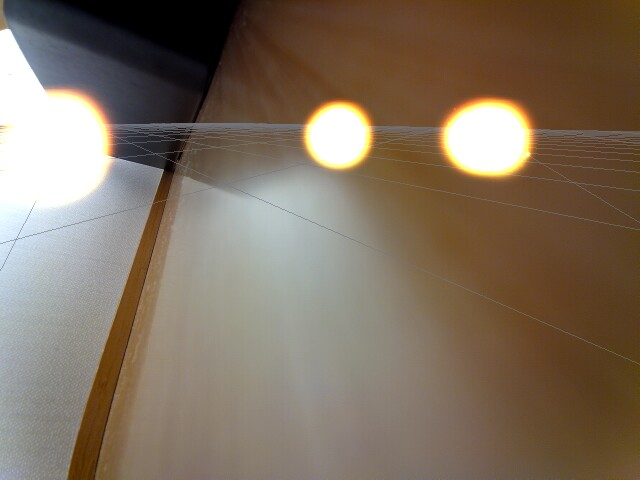firebig: (0, 73, 128, 222)
